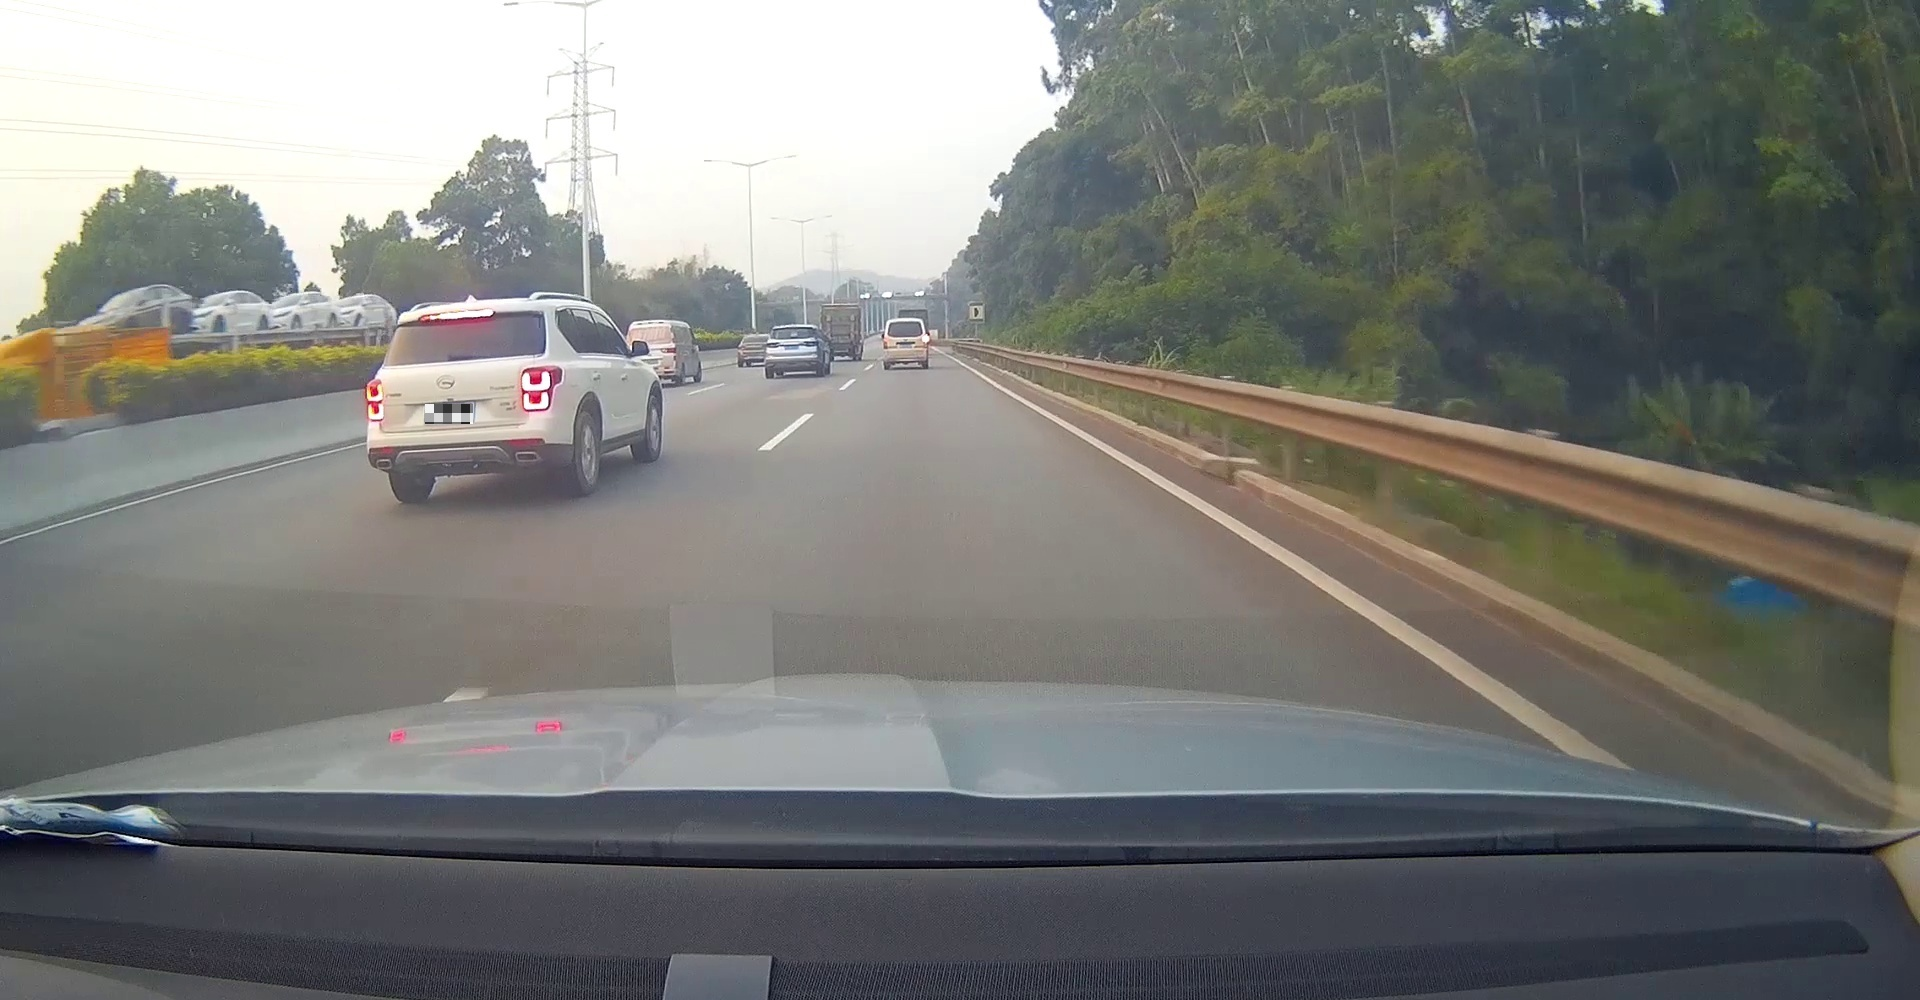L_light: (364, 378, 386, 423)
R_light: (521, 365, 563, 412)
T_light: (418, 308, 495, 322)
day-brake: (362, 298, 568, 504)
plate_1: (425, 404, 472, 424)
